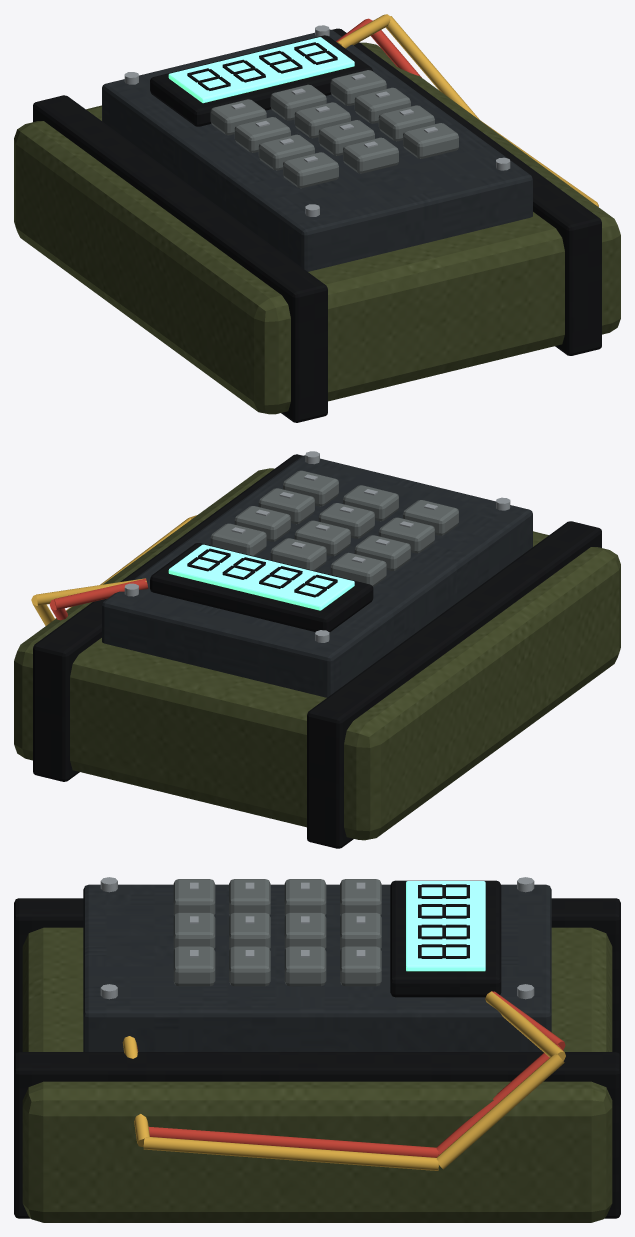
3 views of the same model, one above another, from view 1: azimuth 30°, elevation 25°; view 2: azimuth 150°, elevation 25°; view 3: azimuth 270°, elevation 25° (orthographic). The views are drawn at different scales.
Parts seen in each view (by area): view 1: body_Olive charge casing, body_Parkerized steel, body_Graphite polymer, body_Leather reinforcement, body_Display phosphor, body_Ochre insulated wire, body_Machined edges, body_Red insulated wire; view 2: body_Olive charge casing, body_Parkerized steel, body_Graphite polymer, body_Leather reinforcement, body_Display phosphor, body_Machined edges, body_Ochre insulated wire, body_Red insulated wire; view 3: body_Olive charge casing, body_Parkerized steel, body_Graphite polymer, body_Leather reinforcement, body_Ochre insulated wire, body_Display phosphor, body_Red insulated wire, body_Machined edges.
Boxes of the visible parts, x1,y1,x2,y2 form: body_Olive charge casing: (14, 42, 620, 414); body_Parkerized steel: (102, 29, 532, 271); body_Graphite polymer: (33, 28, 601, 422); body_Leather reinforcement: (210, 70, 458, 188); body_Display phosphor: (168, 37, 354, 103); body_Ochre insulated wire: (337, 14, 598, 206); body_Machined edges: (124, 25, 510, 216); body_Red insulated wire: (336, 18, 421, 77); body_Olive charge casing: (14, 468, 620, 840); body_Parkerized steel: (102, 455, 532, 697); body_Graphite polymer: (33, 454, 601, 848); body_Leather reinforcement: (210, 470, 458, 586); body_Display phosphor: (168, 544, 354, 610); body_Machined edges: (124, 451, 510, 642); body_Ochre insulated wire: (31, 515, 196, 625); body_Red insulated wire: (49, 578, 148, 620); body_Olive charge casing: (22, 927, 612, 1222); body_Parkerized steel: (83, 884, 551, 1051); body_Graphite polymer: (14, 880, 620, 1218); body_Leather reinforcement: (173, 879, 381, 986); body_Ochre insulated wire: (122, 991, 565, 1170); body_Display phosphor: (406, 881, 485, 971); body_Red insulated wire: (137, 991, 565, 1157); body_Machined edges: (100, 877, 534, 999).
Bounding box in the file's own units: 0.306 × 0.1365 × 0.35.
8 materials, 3 textured.
